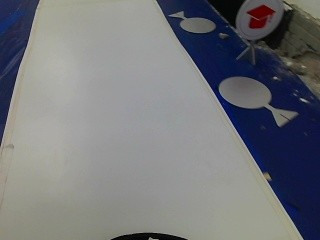school: (235, 2, 285, 37)
